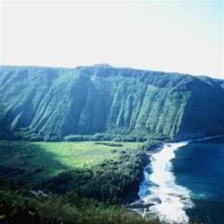neutral: (3, 7, 223, 224)
